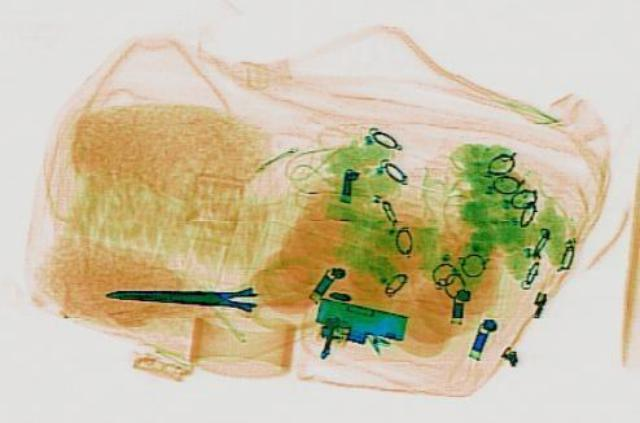Knife: (102, 281, 255, 309)
